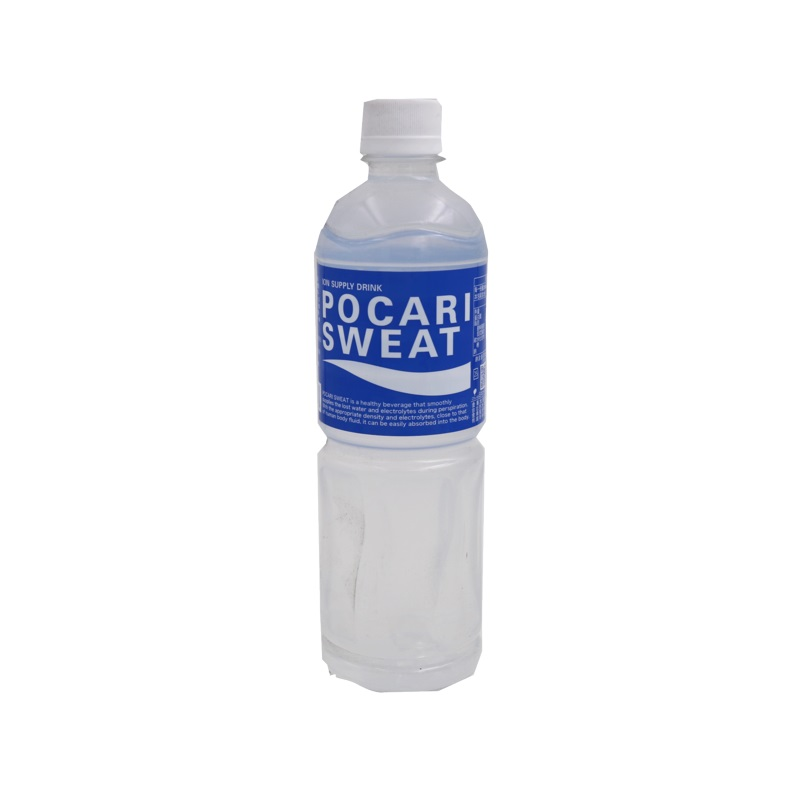POCARI SWEAT: (310, 99, 492, 704)
